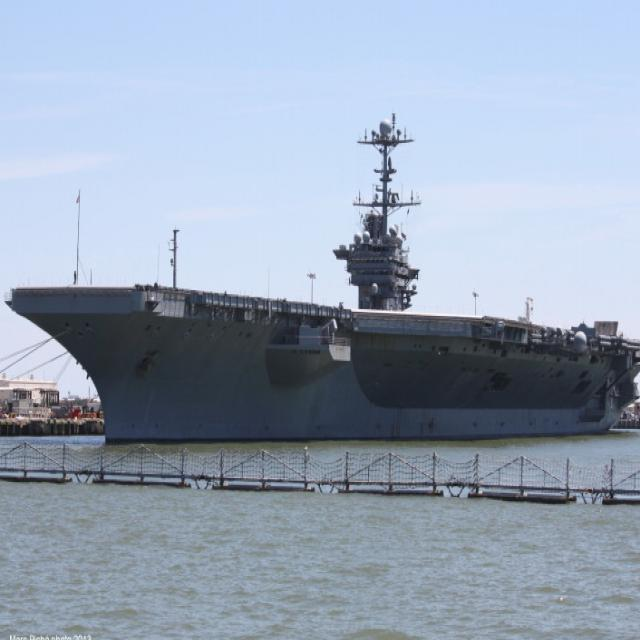Portanaves: (3, 92, 640, 452)
